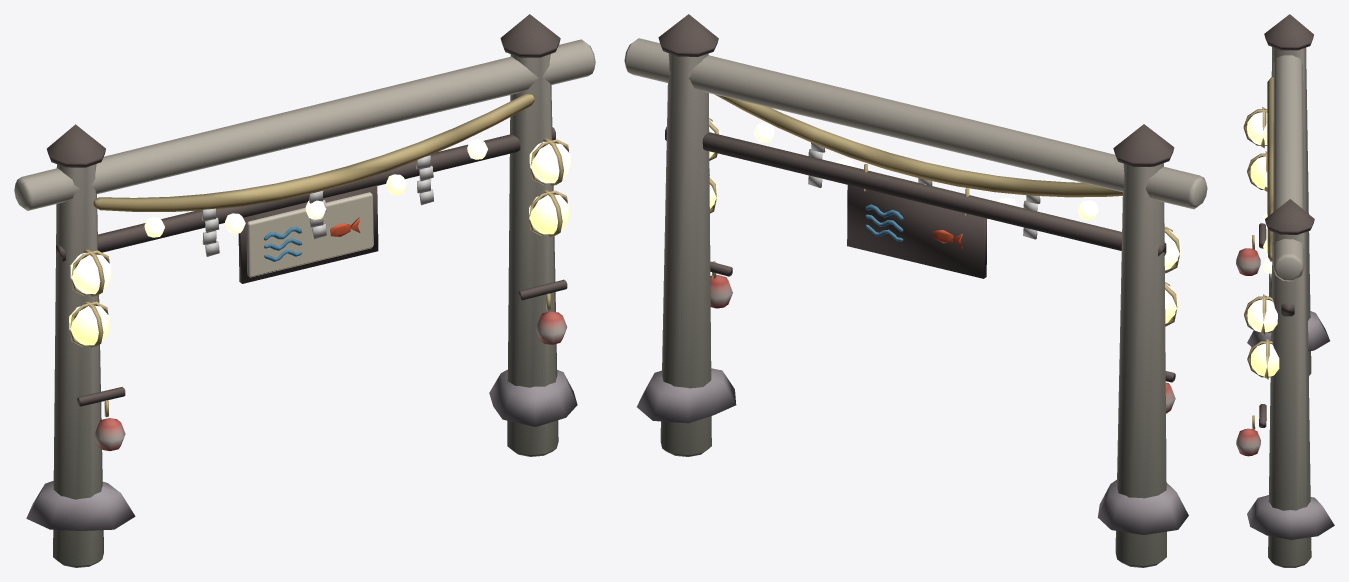
File: zv-tidepool-gate.glb
3 renders of one model, left to right at view 1: azimuth 30°, elevation 25°; view 2: azimuth 150°, elevation 25°; view 3: azimuth 270°, elevation 25°, orthographic. The views are drawn at different scales.
Parts seen in each view (by area): view 1: zv-tidepool-gate, window_glow; view 2: zv-tidepool-gate, window_glow; view 3: zv-tidepool-gate, window_glow.
Boxes of the visible parts, x1,y1,x2,y2 form: zv-tidepool-gate: (14,14,595,567); window_glow: (69,139,570,345); zv-tidepool-gate: (624,14,1207,567); window_glow: (709,119,1181,323); zv-tidepool-gate: (1236,14,1334,567); window_glow: (1247,112,1279,376).
Size of the model in its own units: 4.5 by 3.29 by 0.8165.
